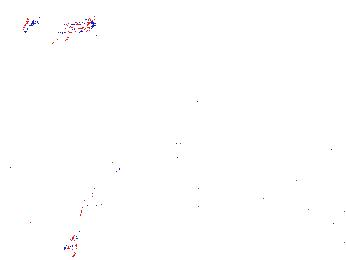X-ray fish: (169, 132, 189, 173)
glassfish: (184, 130, 278, 202), (66, 160, 123, 251)
redtail glassfish: (19, 10, 99, 35)
